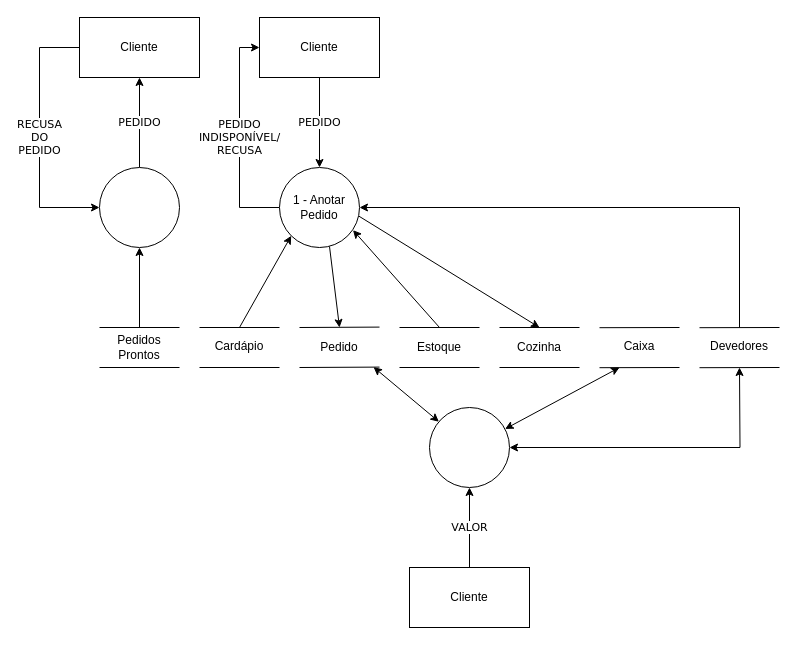
Some shapes in this 798 by 645 pixel diagram are drawn without their labels. The centre of each missing label's shape, as x and y in pixels:
"3 - Entregar pedido" goes at point 139,207.
"5 - Receber pagamento" goes at point 469,447.
